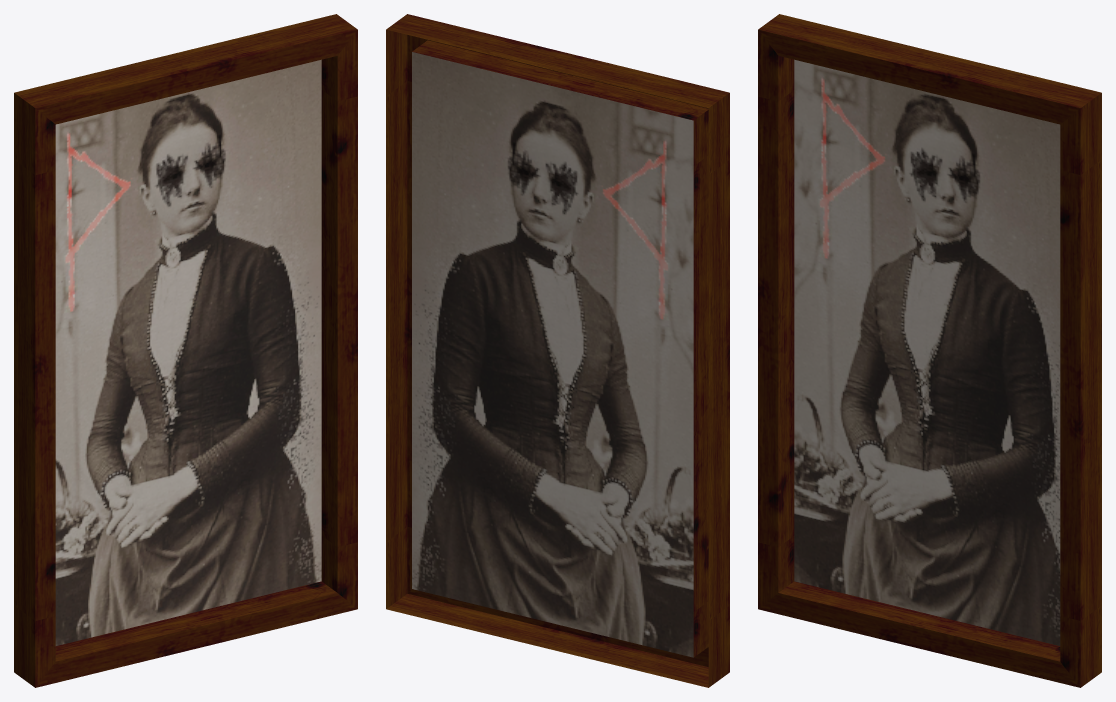
File: En_P_frame6_symbol.fbx
The picture shows the model from 3 angles, left to right: view 1: azimuth 30°, elevation 25°; view 2: azimuth 150°, elevation 25°; view 3: azimuth 330°, elevation 25°; orthographic projection.
Parts seen in each view (by area): view 1: frame6_symbol; view 2: frame6_symbol; view 3: frame6_symbol.
Boxes of the visible parts, box(x1,y1,x2,y2) form: frame6_symbol: box(14, 14, 357, 687); frame6_symbol: box(386, 14, 729, 687); frame6_symbol: box(758, 14, 1101, 687).
Bounding box in the file's own units: 52.74 × 90.59 × 6.03.
